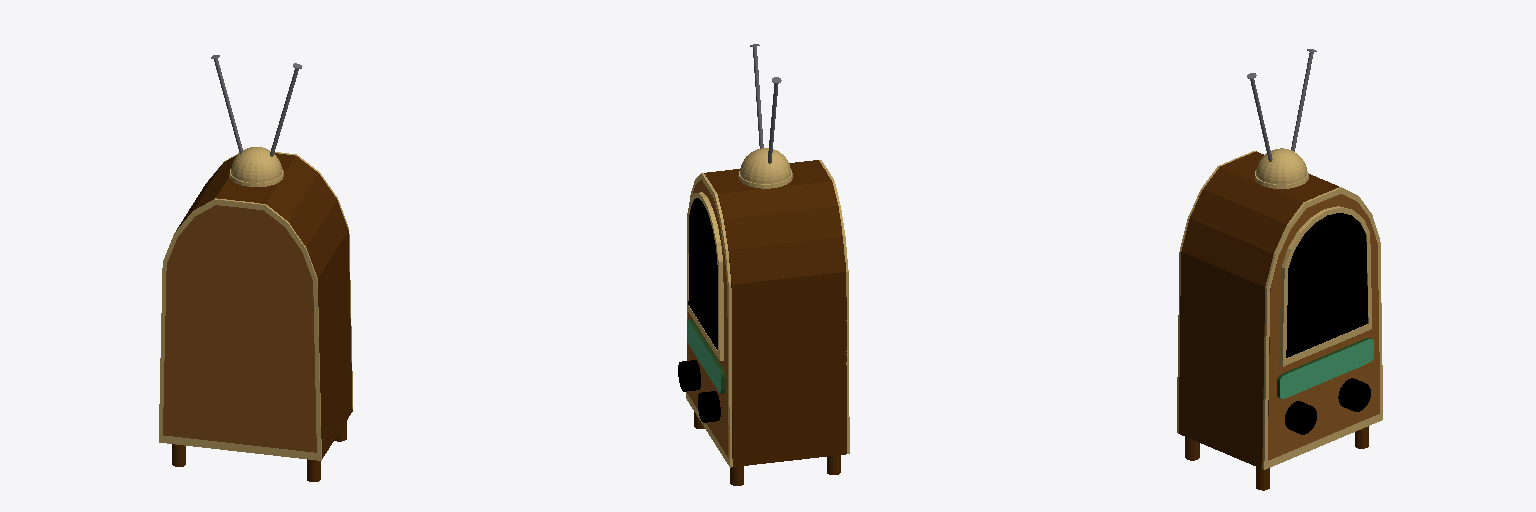
3 views of the same model, side by side, from view 1: azimuth 30°, elevation 25°; view 2: azimuth 150°, elevation 25°; view 3: azimuth 270°, elevation 25° (orthographic).
Visible parts, largest first — view 1: pCylinder24; view 2: pCylinder24; view 3: pCylinder24.
Part boxes in pixels (x1,y1,x2,y2): pCylinder24: (159,55,352,481); pCylinder24: (678,44,849,485); pCylinder24: (1177,49,1382,490).
Bounding box in the file's own units: 1.75 × 3.65 × 1.75.
Materials: 8 (5 with a texture image).